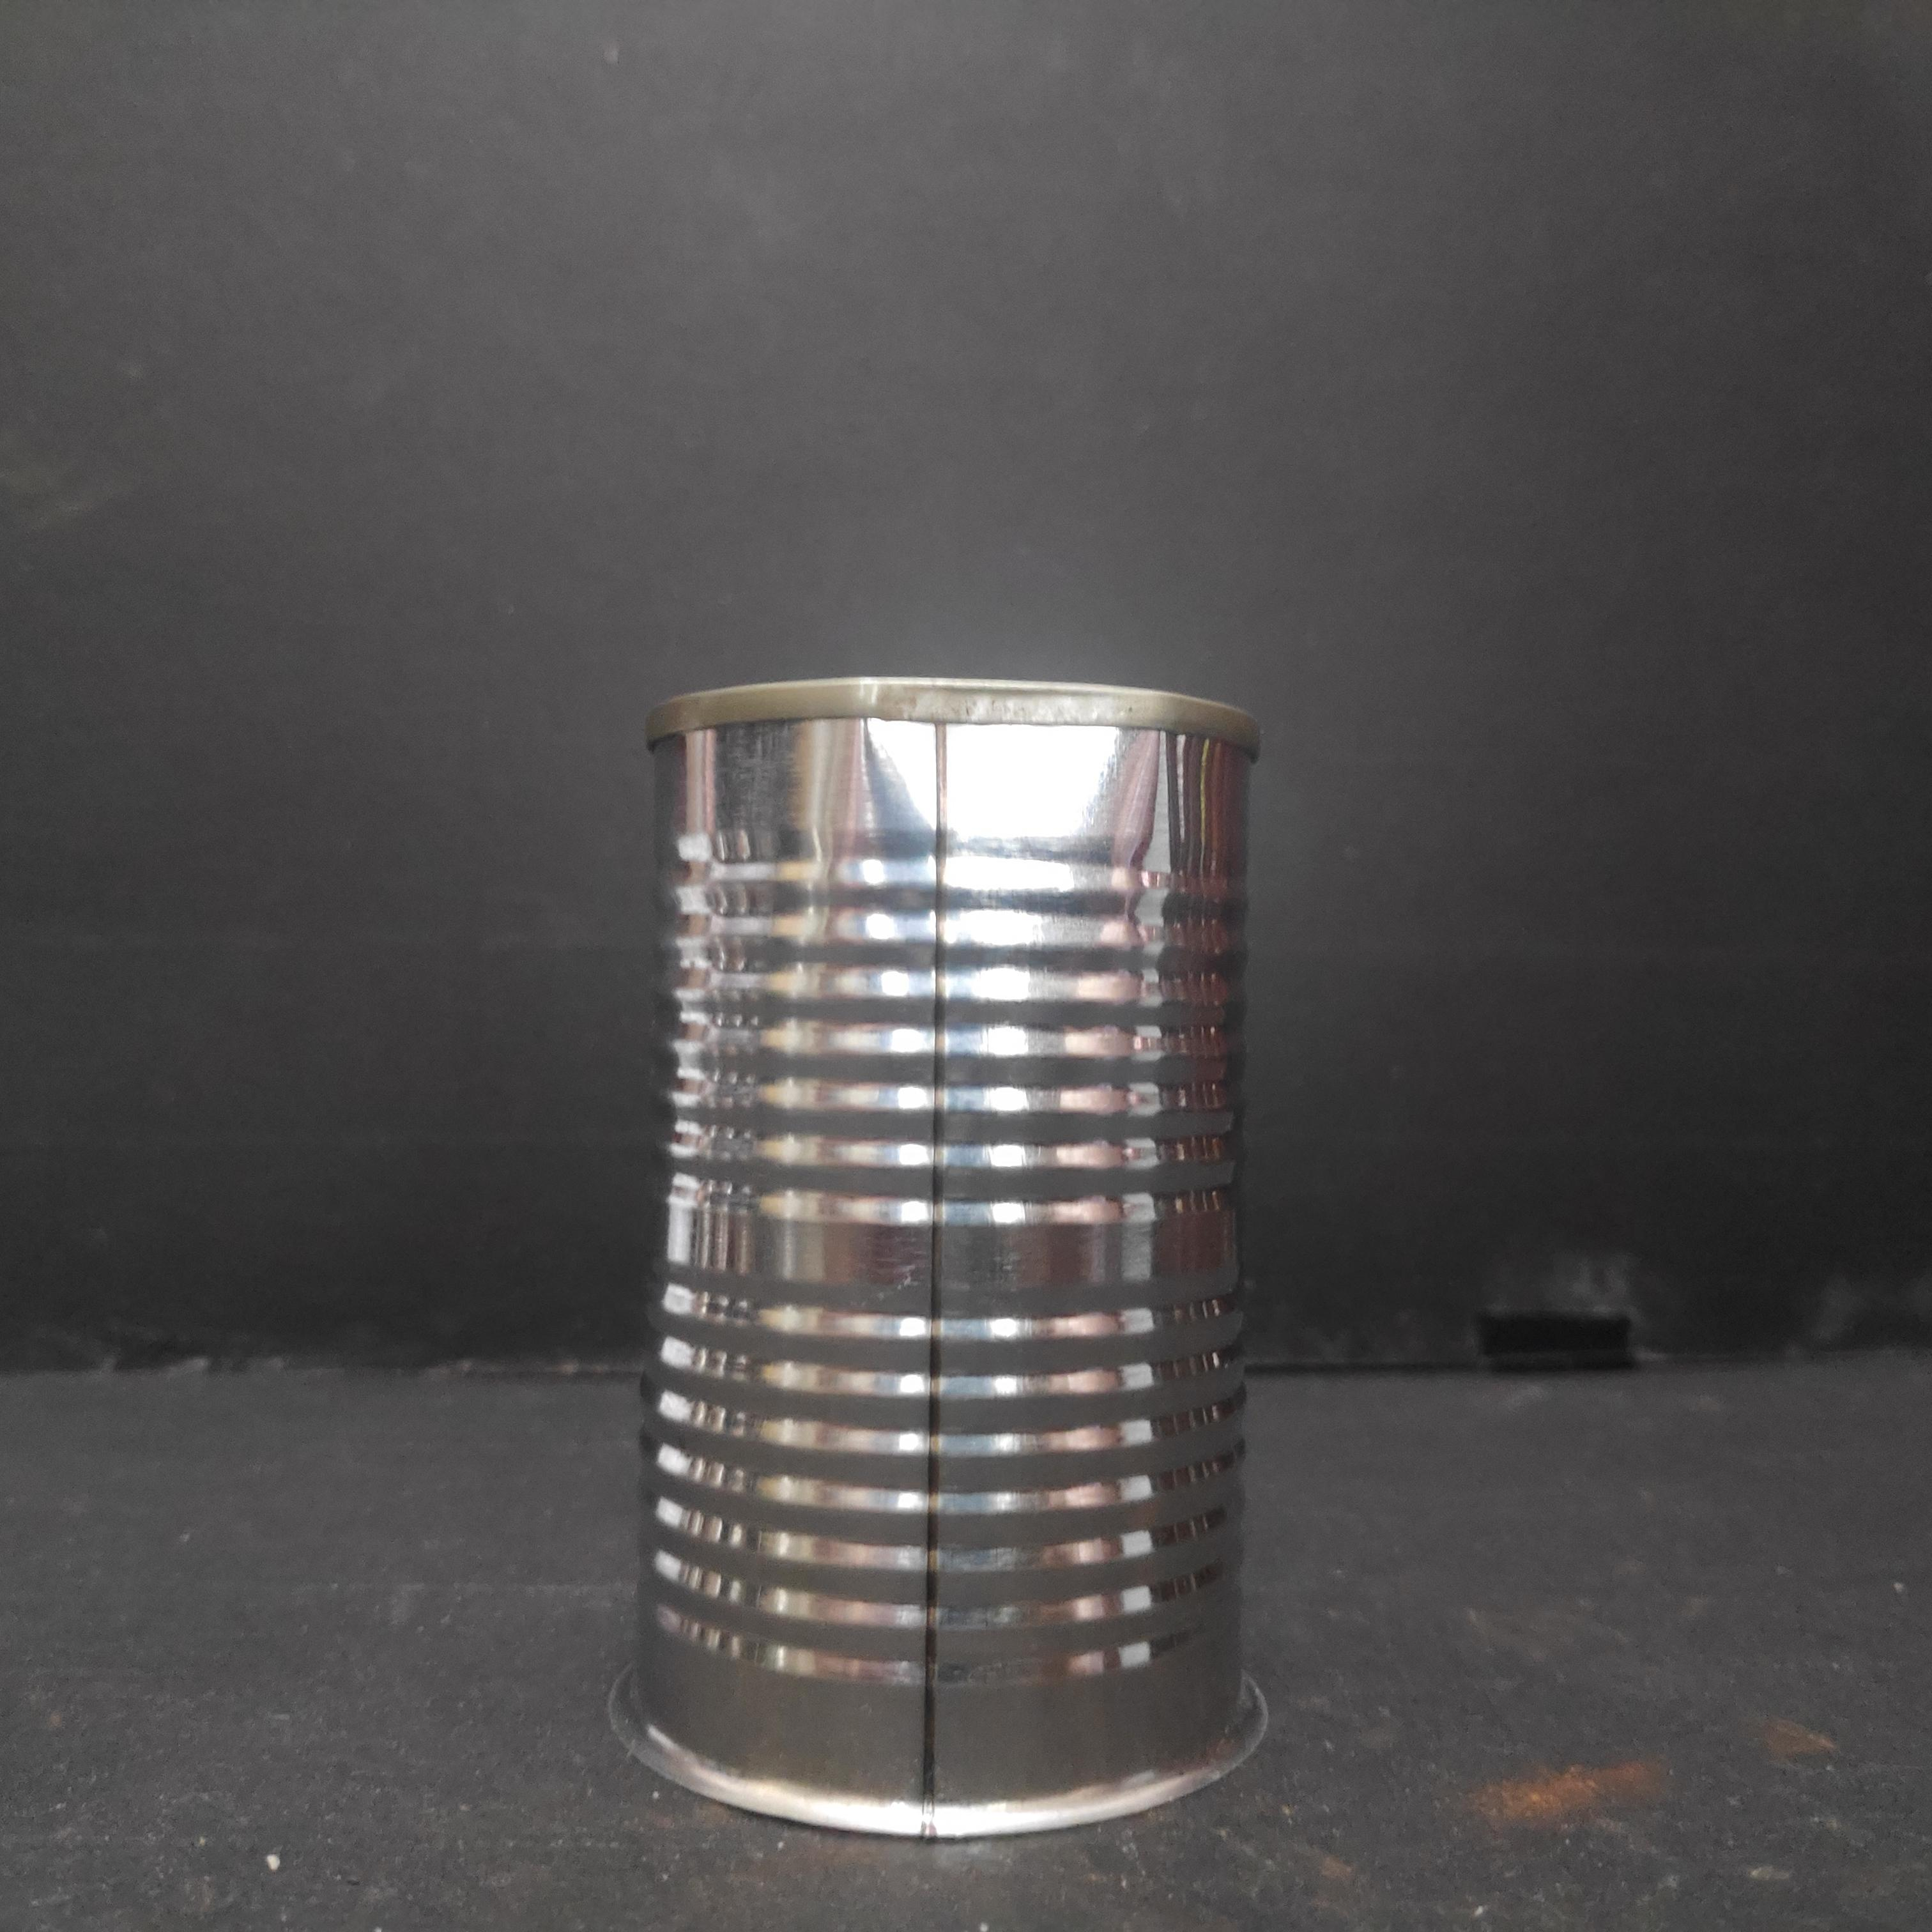Minor Defect: (627, 675, 1274, 1843)
